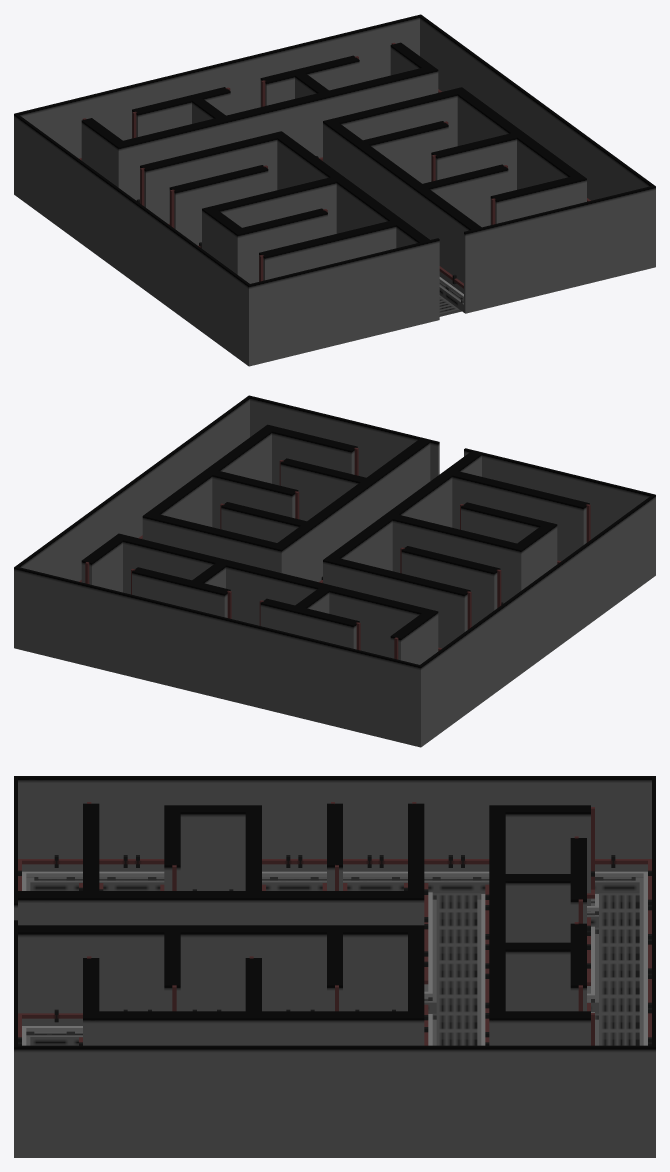
The model's file is Level01pt1.fbx.
3 views of the same model, one above another, from view 1: azimuth 30°, elevation 25°; view 2: azimuth 150°, elevation 25°; view 3: azimuth 270°, elevation 25° (orthographic). The views are drawn at different scales.
Parts seen in each view (by area): view 1: Union_193; view 2: Union_193; view 3: Union_193.
Boxes of the visible parts, x1,y1,x2,y2 form: Union_193: [14, 14, 655, 366]; Union_193: [14, 395, 655, 747]; Union_193: [14, 776, 655, 1157].
Bounding box in the file's own units: 158 × 31 × 158.
